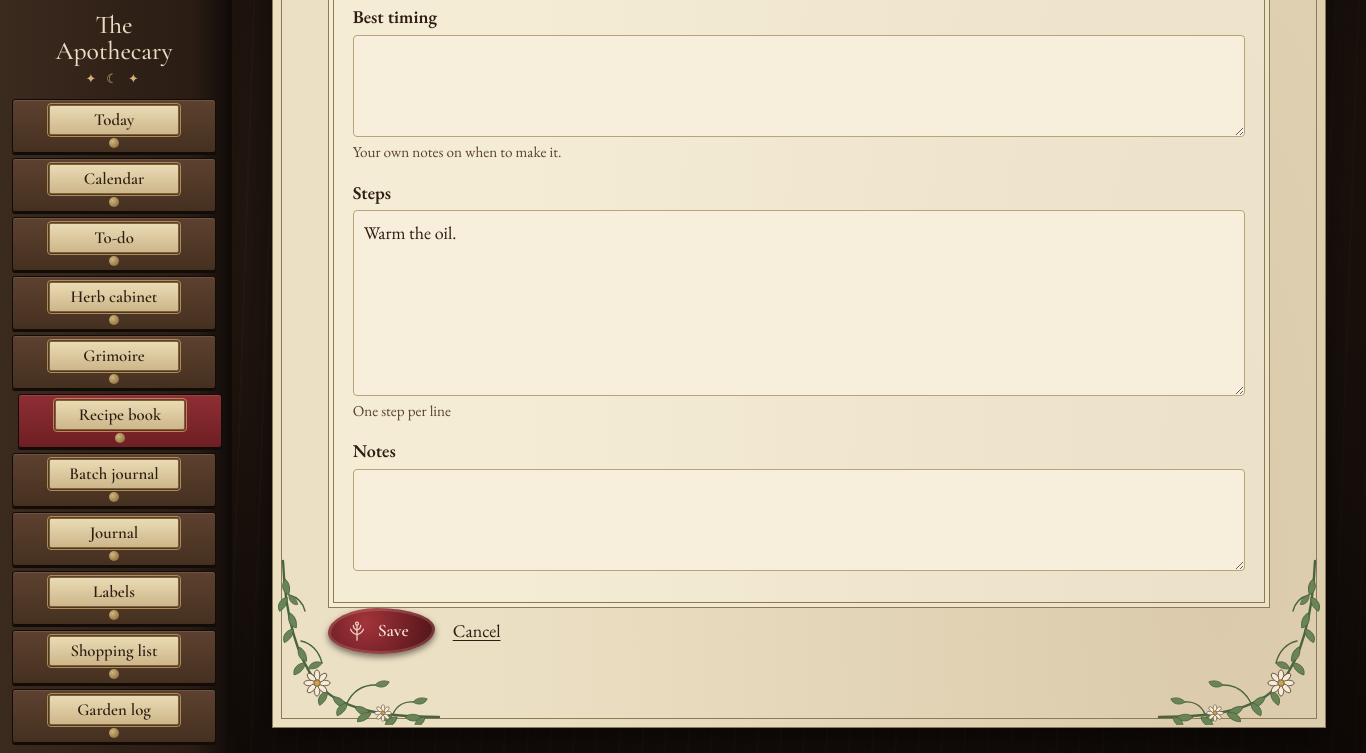
it: clears a deleted type and says so
This screenshot has width=1366, height=753.
(page scrolled)
Click the button "Save".
click(381, 631)  # box [328,608,435,654]
(page scrolled)
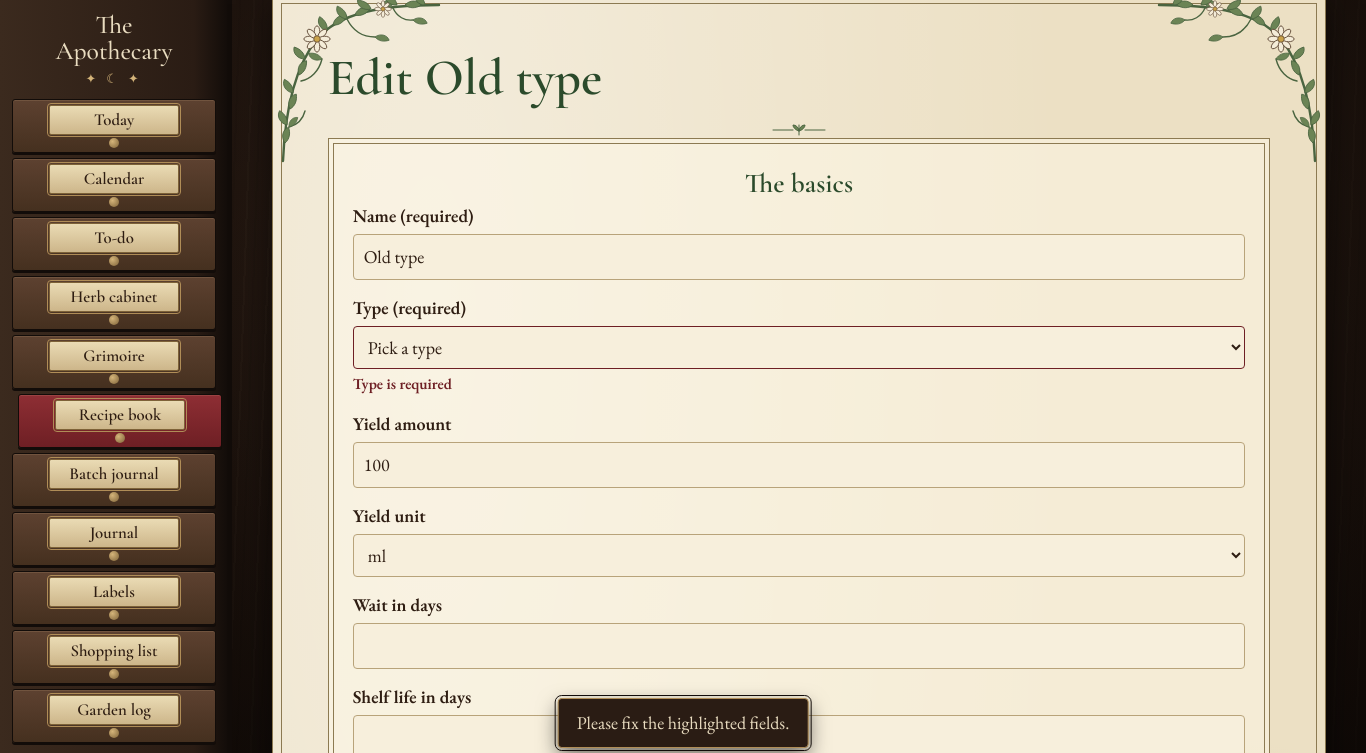
Check: the text "Type is required" is shown, box [353,374,452,394]
